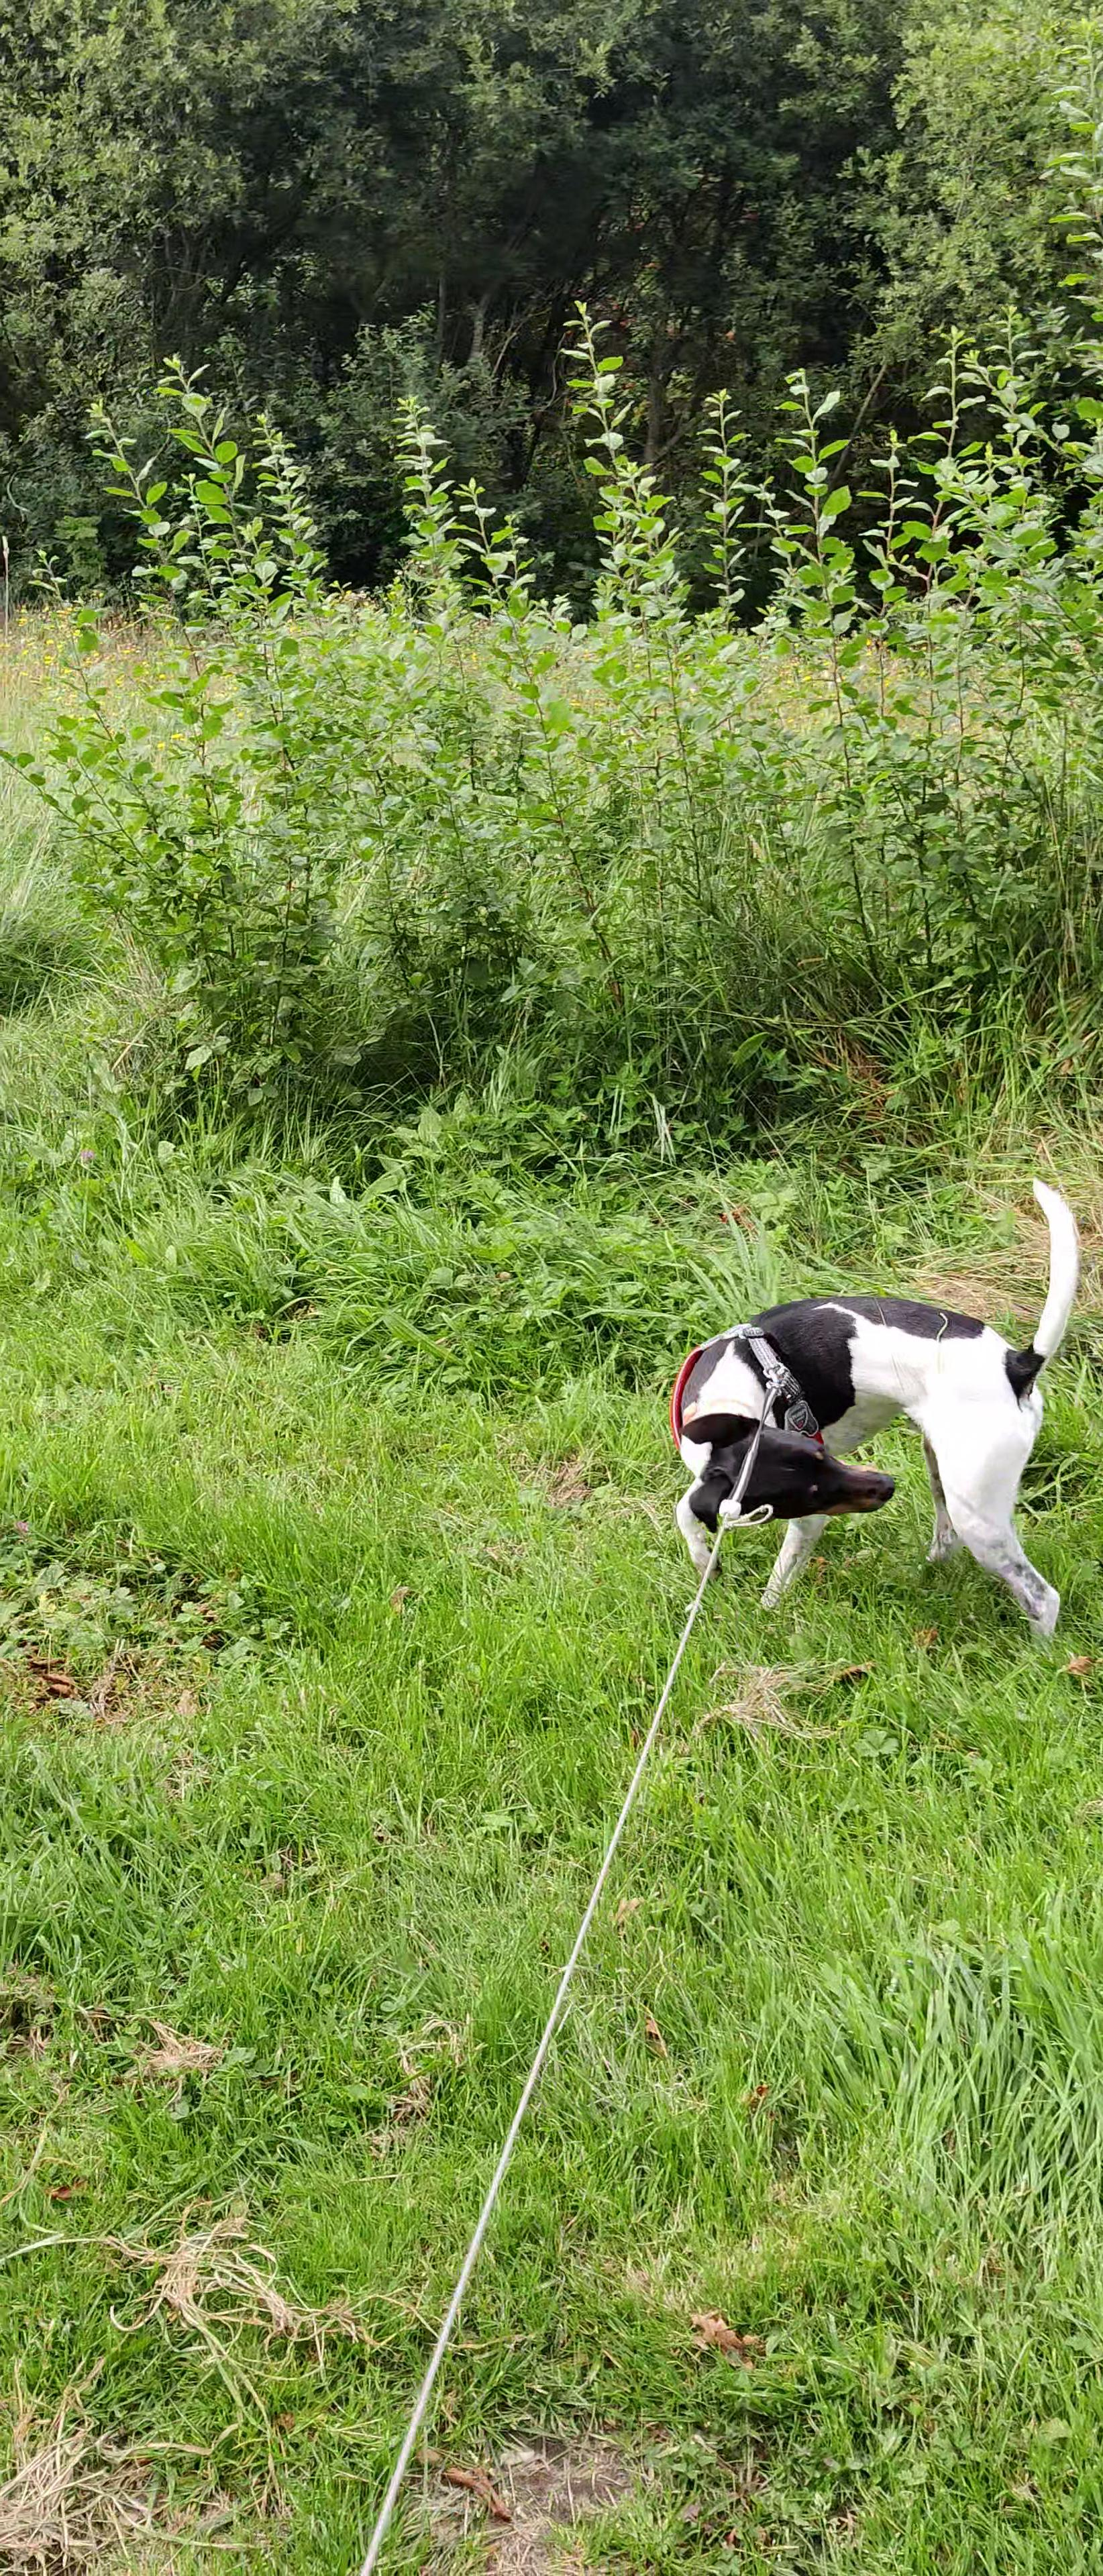Dog: (653, 1166, 1080, 1636)
